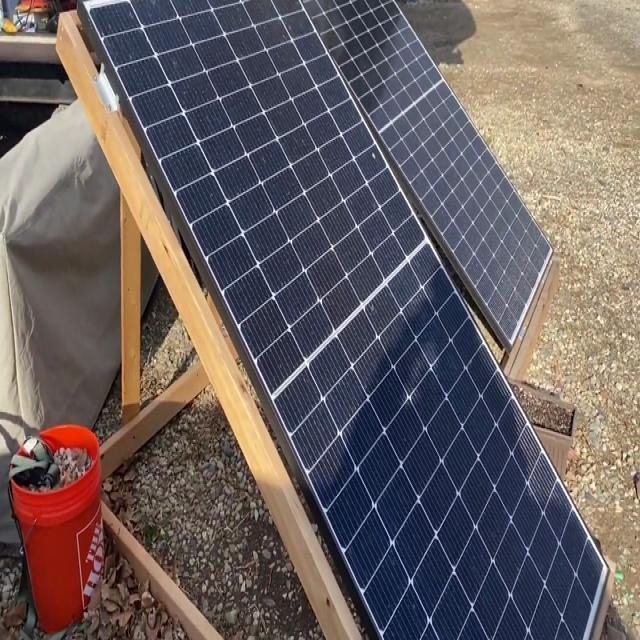Normal Solar Panel: (79, 0, 605, 640), (307, 1, 554, 348)
